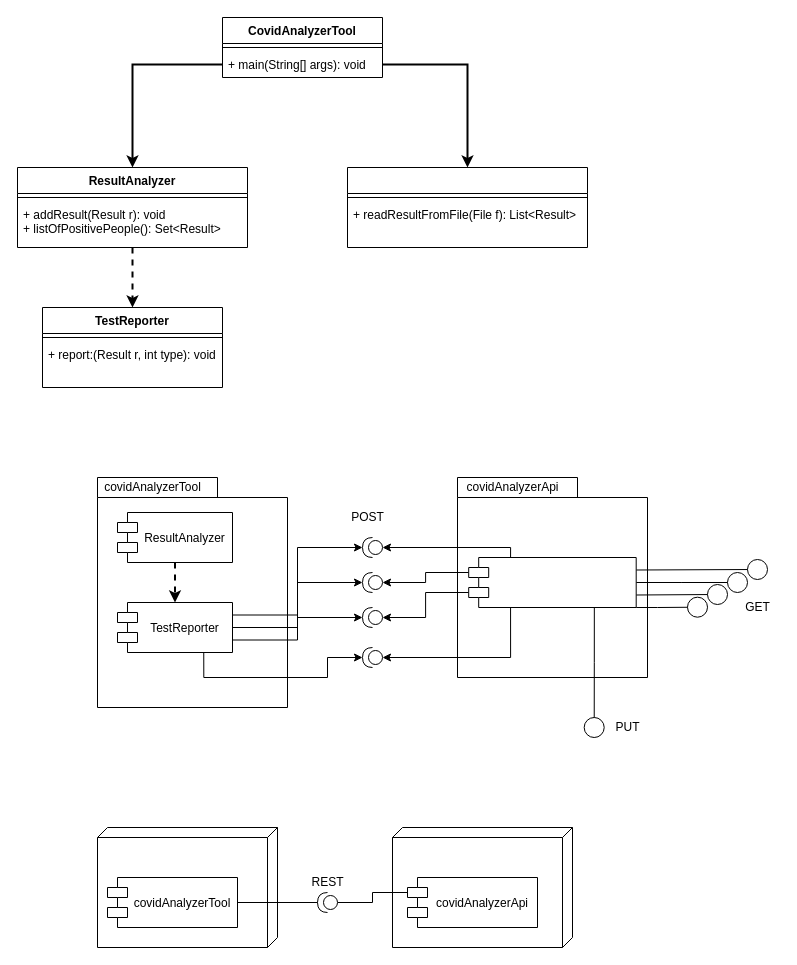
Image size: 797x965. Some labels were removed from this diagram. The shapes that lost their labels are listed below. From the top down, each one's box as (x1, y1, x2, y2) in pixels, then its label:
(346, 166, 588, 248): TestReader
(468, 556, 636, 608): CovidAggregateController
(96, 826, 278, 948): localhost
(392, 826, 572, 948): Heroku
